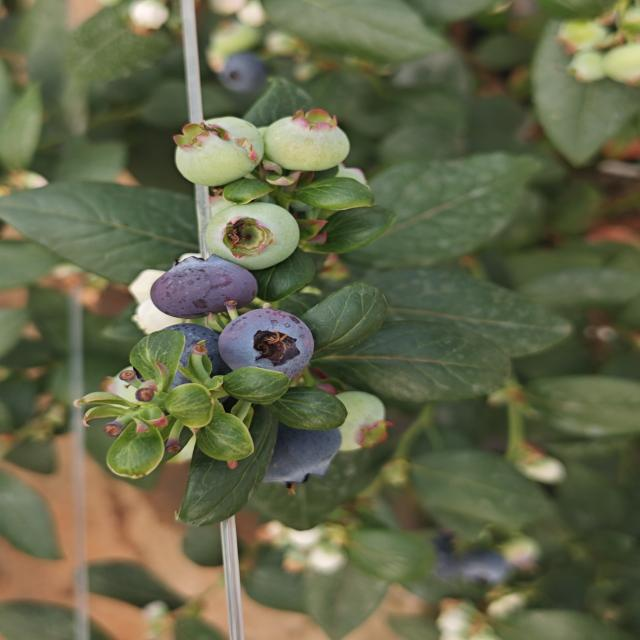ripe: (126, 320, 225, 399), (246, 419, 348, 495), (148, 253, 260, 320), (216, 306, 316, 381), (427, 528, 511, 592), (211, 50, 272, 94)
